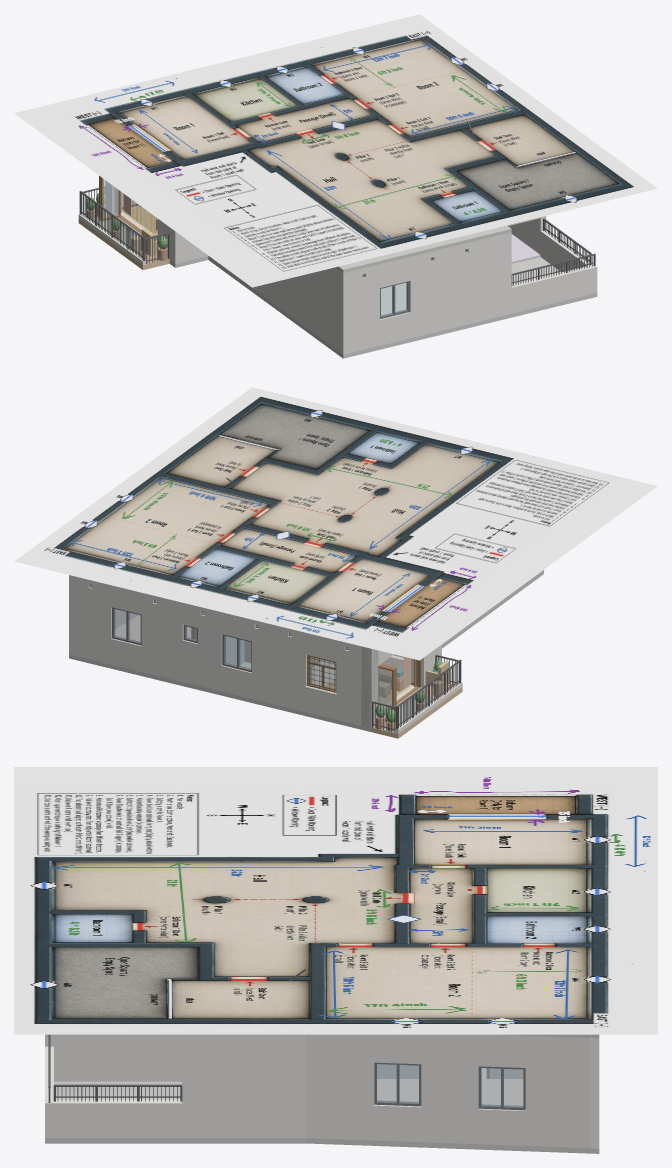
Rendered from MyFlat_V1_1_Room1_OPTION_C.glb.
The picture shows the model from 3 angles, top to bottom: view 1: azimuth 30°, elevation 25°; view 2: azimuth 150°, elevation 25°; view 3: azimuth 270°, elevation 25°; orthographic projection. The views are drawn at different scales.
Visible parts, largest first — view 1: PLAN_REFERENCE_OVERLAY, WALL_EXT_S_HALL, WALL_EXT_W_HALL, SLAB_FLOOR_STRUCTURAL, PARAPET_OPENSQ_S, BALCONY_RAILING_W, SLAB_ROOF, PARAPET_OPENSQ_E, RAILING_OPENSQ_S, WALL_EXT_E_STAIR, WINDOW_W7_GLASS, WALL_EXT_W_R1_BALCONY (+4 smaller); view 2: PLAN_REFERENCE_OVERLAY, WALL_EXT_N_R2, WALL_EXT_N_R1, WALL_EXT_N_KIT, WALL_EXT_N_B2, SLAB_FLOOR_STRUCTURAL, BALCONY_RAILING_W, PILLAR_R1_NW, WALL_EXT_W_R1_BALCONY, WALL_EXT_E_R2_TAPERED, WINDOW_W4_GLASS, WINDOW_W2_GLASS (+2 smaller); view 3: PLAN_REFERENCE_OVERLAY, WALL_EXT_E_R2_TAPERED, WALL_EXT_E_STAIR, WALL_INT_OPENSQ_W, PARAPET_OPENSQ_E, SLAB_FLOOR_STRUCTURAL, FLOOR_R2, WINDOW_W5_GLASS, FLOOR_OPENSQ, WINDOW_W6_GLASS, RAILING_OPENSQ_E, WALL_EXT_N_R2 (+4 smaller).
Boxes of the visible parts, box(x1,y1,x2,y2) form: PLAN_REFERENCE_OVERLAY: box(14, 14, 657, 287); WALL_EXT_S_HALL: box(340, 232, 511, 354); WALL_EXT_W_HALL: box(209, 256, 348, 354); SLAB_FLOOR_STRUCTURAL: box(169, 256, 597, 358); PARAPET_OPENSQ_S: box(511, 264, 597, 313); BALCONY_RAILING_W: box(79, 191, 144, 260); SLAB_ROOF: box(335, 225, 511, 273); PARAPET_OPENSQ_E: box(540, 230, 593, 272); RAILING_OPENSQ_S: box(511, 253, 595, 286); WALL_EXT_E_STAIR: box(508, 216, 546, 254); WINDOW_W7_GLASS: box(381, 282, 407, 316); WALL_EXT_W_R1_BALCONY: box(107, 185, 184, 263); PLAN_REFERENCE_OVERLAY: box(14, 387, 657, 660); WALL_EXT_N_R2: box(69, 575, 171, 679); WALL_EXT_N_R1: box(265, 623, 372, 727); WALL_EXT_N_KIT: box(208, 609, 264, 701); WALL_EXT_N_B2: box(172, 600, 208, 688); SLAB_FLOOR_STRUCTURAL: box(69, 570, 543, 731); BALCONY_RAILING_W: box(396, 659, 461, 729); PILLAR_R1_NW: box(361, 646, 378, 727); WALL_EXT_W_R1_BALCONY: box(362, 647, 438, 727); WALL_EXT_E_R2_TAPERED: box(69, 575, 138, 655); WINDOW_W4_GLASS: box(114, 609, 140, 642); WINDOW_W2_GLASS: box(225, 636, 251, 669); PLAN_REFERENCE_OVERLAY: box(14, 767, 657, 1034); WALL_EXT_E_R2_TAPERED: box(306, 1034, 590, 1148); WALL_EXT_E_STAIR: box(182, 1034, 305, 1137); WALL_INT_OPENSQ_W: box(54, 1034, 182, 1081); PARAPET_OPENSQ_E: box(54, 1099, 182, 1137); SLAB_FLOOR_STRUCTURAL: box(45, 1081, 599, 1153); FLOOR_R2: box(377, 1079, 523, 1105); WINDOW_W5_GLASS: box(481, 1068, 523, 1106); FLOOR_OPENSQ: box(54, 1081, 182, 1099); WINDOW_W6_GLASS: box(377, 1064, 418, 1103); RAILING_OPENSQ_E: box(53, 1084, 182, 1101); WALL_EXT_N_R2: box(590, 1038, 599, 1148).
Size of what is drawn, in the model's own units: 16.28 by 4.33 by 16.55.
48 materials, 1 textured.
